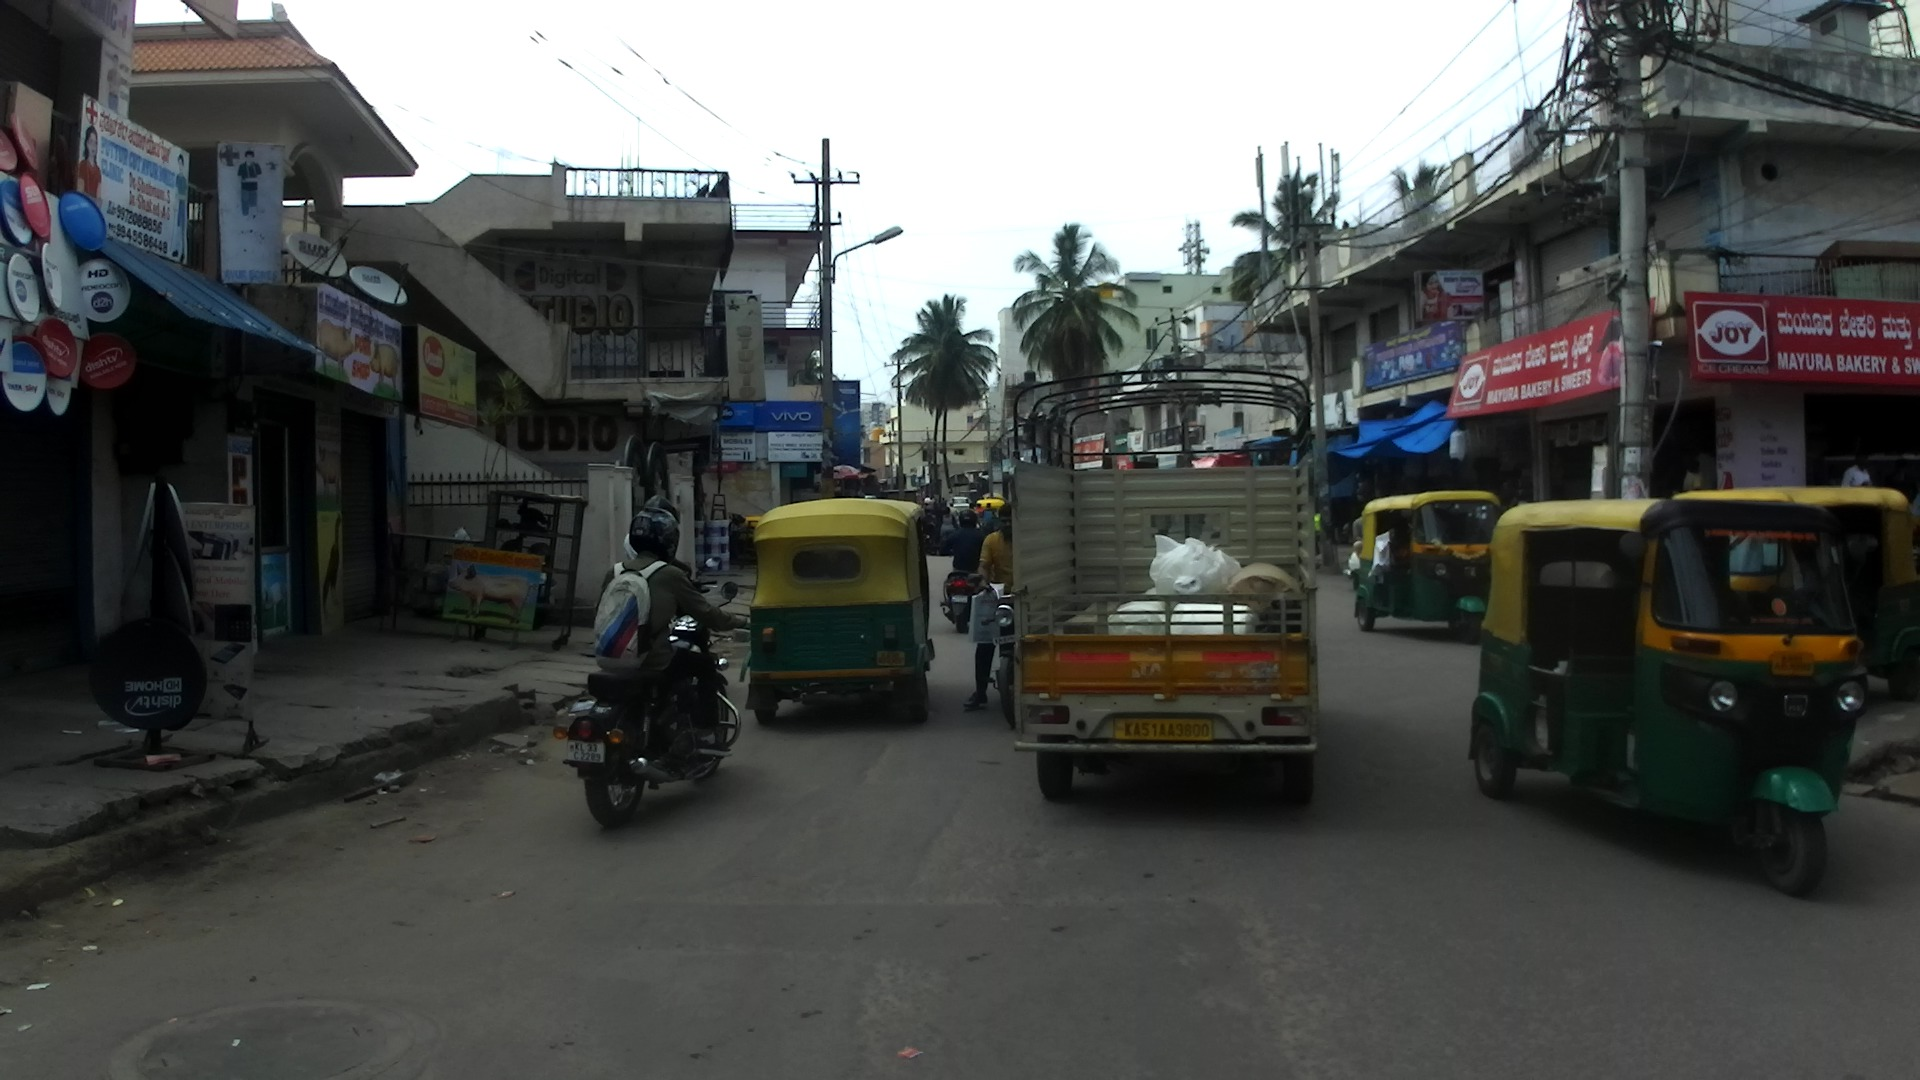autorickshaw: (1466, 499, 1870, 894), (1670, 487, 1917, 702), (737, 498, 938, 726), (1353, 490, 1504, 645), (975, 498, 1003, 515)
car: (1682, 459, 1705, 491), (948, 494, 971, 512)
motorcycle: (552, 582, 753, 827), (967, 574, 1017, 731), (669, 554, 721, 626), (938, 547, 972, 635), (1343, 543, 1361, 589), (923, 523, 934, 555)
person: (1691, 442, 1715, 492), (1839, 451, 1871, 486), (924, 494, 930, 508)
rider: (596, 504, 746, 769), (961, 504, 1015, 711), (621, 493, 696, 579), (939, 509, 985, 574), (939, 508, 959, 552), (1347, 508, 1362, 556), (921, 507, 940, 543), (982, 503, 997, 528), (948, 503, 960, 521), (933, 495, 941, 514), (926, 496, 935, 512), (939, 496, 947, 514), (976, 502, 983, 519), (968, 503, 976, 515)
truck: (993, 371, 1322, 804)
vehicle fallback: (728, 513, 759, 567), (879, 490, 916, 502)
